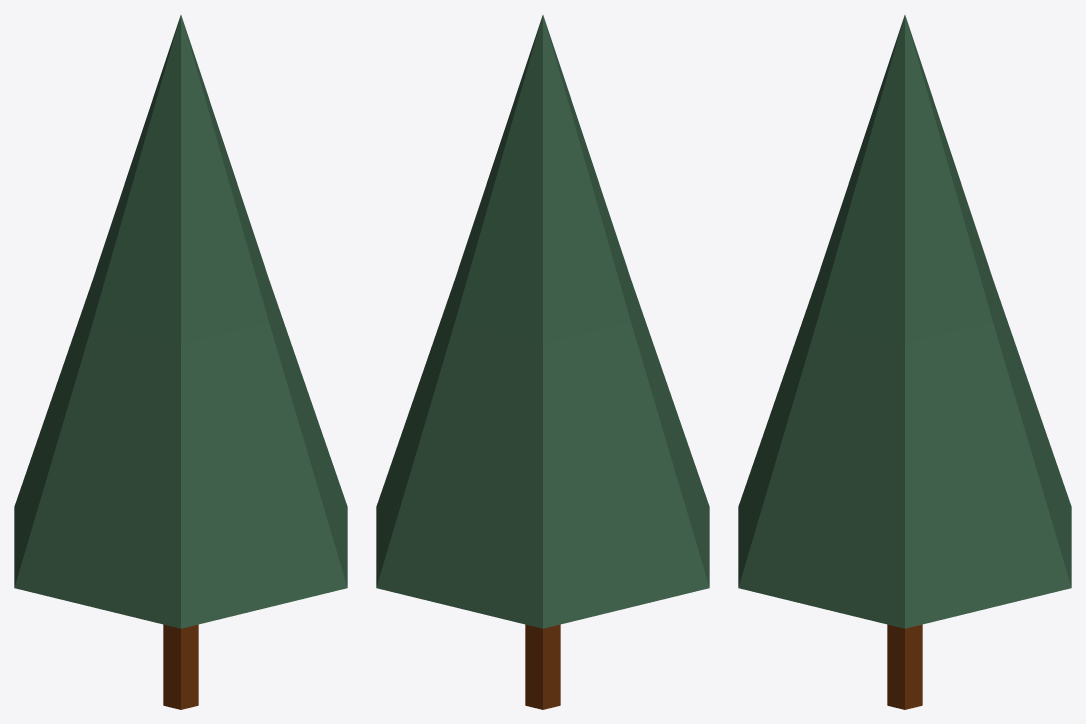
Rendered from tree3.obj.
The picture shows the model from 3 angles, left to right: view 1: azimuth 30°, elevation 25°; view 2: azimuth 150°, elevation 25°; view 3: azimuth 270°, elevation 25°; orthographic projection.
Size of the model in its own units: 3.4 by 6.7 by 2.94.
